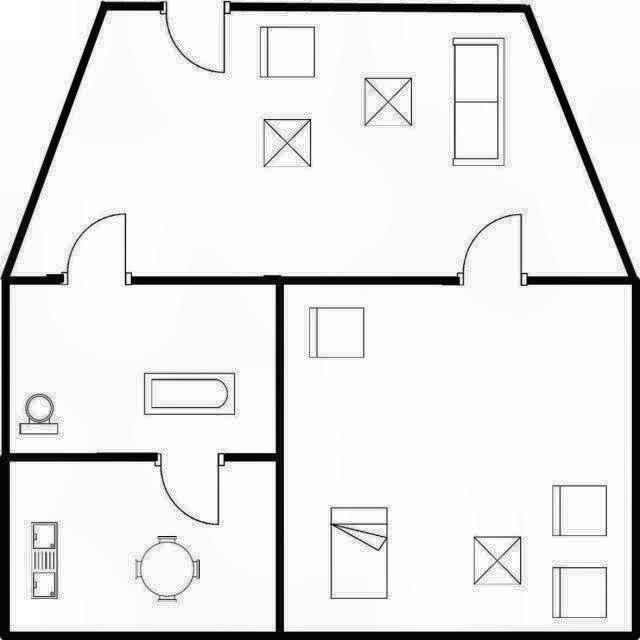room: (10, 10, 629, 276), (284, 285, 632, 632), (10, 462, 276, 632), (10, 285, 275, 453)
